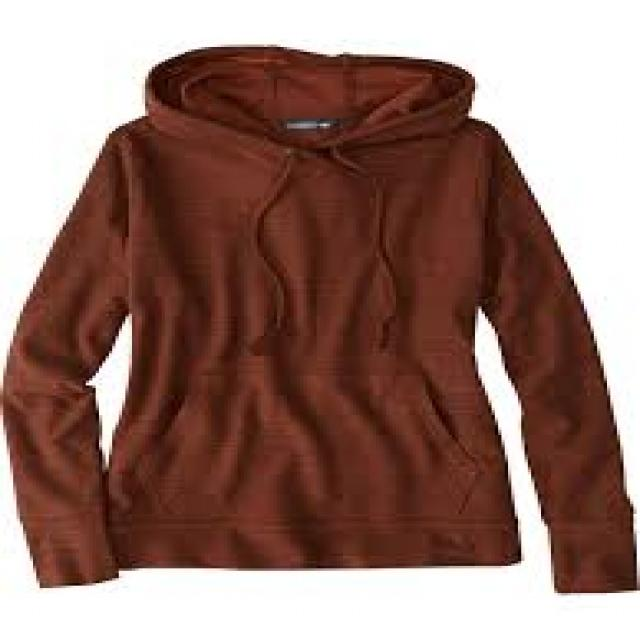plain: (20, 52, 640, 590)
